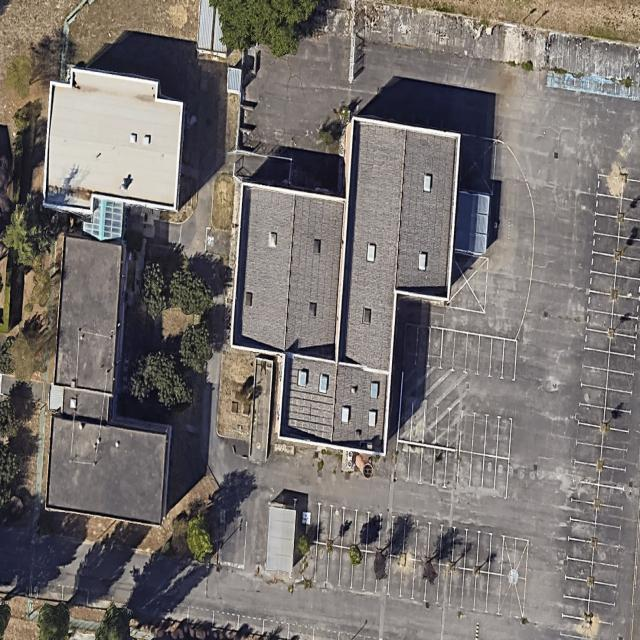immeuble: (336, 118, 459, 372), (41, 66, 187, 216), (229, 185, 348, 359), (36, 411, 180, 529), (271, 356, 398, 458), (53, 236, 123, 391)
